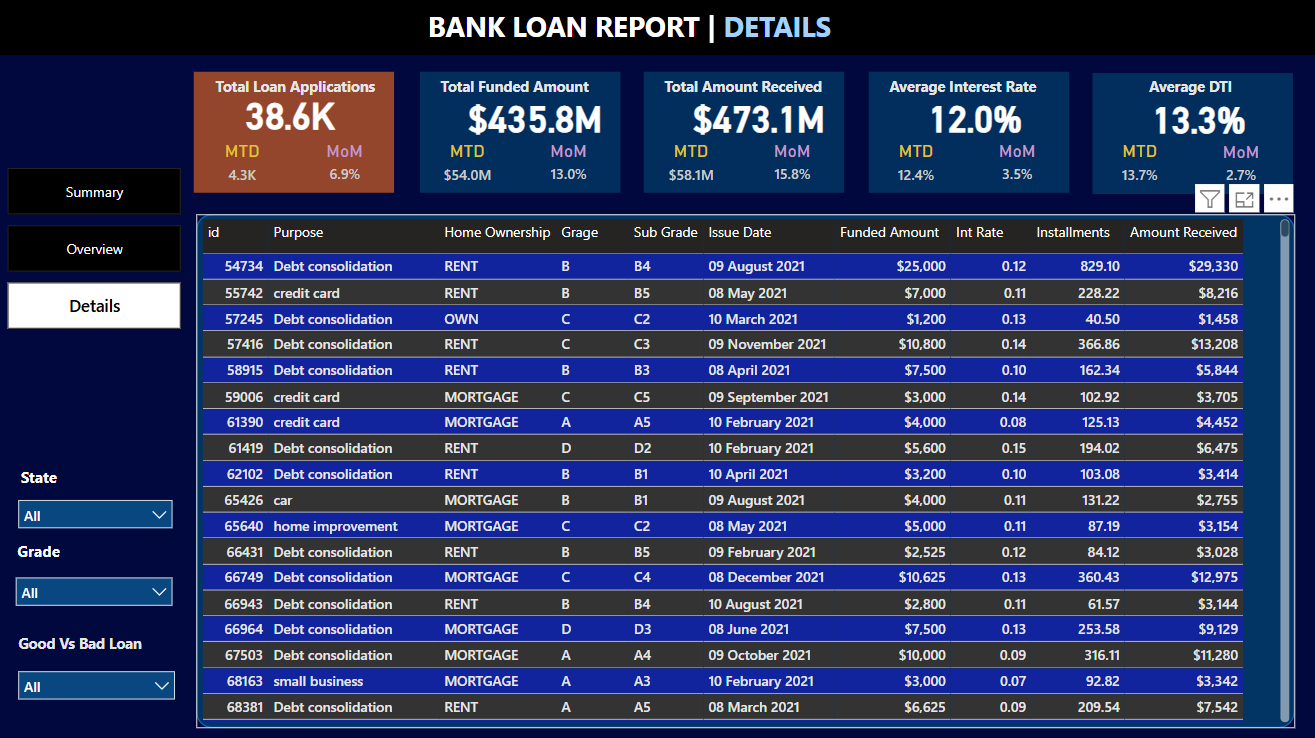

The dashboard page shown, as its layout file describes it:
{"tool":"powerbi","page":{"name":"Details","canvas":[1280,720],"ordinal":2},"visuals":[{"type":"shape","box":[0,55.5,194.2,664.5],"z":0},{"type":"shape","box":[410.2,71.3,193.7,117],"z":0,"group":"g3"},{"type":"shape","box":[626.7,71.3,193.7,117],"z":0,"group":"g4"},{"type":"shape","box":[843.2,71.3,193.7,117],"z":0,"group":"g5"},{"type":"shape","box":[192.3,71.4,193.7,117],"z":0,"group":"g1"},{"type":"shape","box":[1059.7,71.9,193.7,117],"z":0,"group":"g6"},{"type":"shape","box":[0,0,1280.3,55],"z":1000},{"type":"card","fields":{"Values":["bank_loan_data.Total Loan Application"]},"box":[228.8,76.7,113.6,69.9],"z":1000,"group":"g1"},{"type":"card","fields":{"Values":["bank_loan_data.Total Funded Amount"]},"box":[447.1,82,147.9,64.6],"z":1000,"group":"g3"},{"type":"card","fields":{"Values":["bank_loan_data.Total Amount Received"]},"box":[663.6,82,147.9,64.6],"z":1000,"group":"g4"},{"type":"card","fields":{"Values":["bank_loan_data.Avg Interest Rate"]},"box":[872.1,82.5,147.9,64.6],"z":1000,"group":"g5"},{"type":"card","fields":{"Values":["bank_loan_data.Avg DTI"]},"box":[1088.6,83.1,147.9,64.6],"z":1000,"group":"g6"},{"type":"textbox","box":[204.7,71.3,197.8,40.3],"z":2000,"group":"g1"},{"type":"textbox","box":[420.9,71.3,197.8,40.3],"z":2000,"group":"g3"},{"type":"textbox","box":[637.4,71.3,197.8,40.3],"z":2000,"group":"g4"},{"type":"textbox","box":[853.9,71.3,197.8,40.3],"z":2000,"group":"g5"},{"type":"textbox","box":[1070.1,71.3,169.4,40.3],"z":2000,"group":"g6"},{"type":"textbox","box":[12.1,447.4,95.3,31.4],"z":2000,"group":"g7"},{"type":"textbox","box":[12.1,517.4,83.2,31.4],"z":2000},{"type":"card","title":"MTD","fields":{"Values":["bank_loan_data.MTD Loan Applications"]},"box":[204.7,137.2,69.5,51.1],"z":3000,"group":"g1"},{"type":"card","title":"MTD","fields":{"Values":["bank_loan_data.MTD Funded Applications"]},"box":[420.9,137.2,69.5,51.1],"z":3000,"group":"g3"},{"type":"card","title":"MTD","fields":{"Values":["bank_loan_data.MTD Total Amount Received"]},"box":[637.4,137.2,69.5,51.1],"z":3000,"group":"g4"},{"type":"card","title":"MTD","fields":{"Values":["bank_loan_data.MTD Average Interest Rate"]},"box":[853.9,137.2,69.5,51.1],"z":3000,"group":"g5"},{"type":"card","title":"MTD","fields":{"Values":["bank_loan_data.MTD Average DTI"]},"box":[1070.4,137.8,69.5,51.1],"z":3000,"group":"g6"},{"type":"textbox","box":[9.6,607.8,156.8,31.4],"z":3000},{"type":"group","id":"g1","title":"Group 2","box":[192.3,71.3,210.2,117.1],"z":3005,"group":"g2"},{"type":"card","title":"MoM","fields":{"Values":["bank_loan_data.MoM Loan Applications"]},"box":[303,138.2,69.5,49.8],"z":4000,"group":"g1"},{"type":"card","title":"MoM","fields":{"Values":["bank_loan_data.MoM Total Funded Amount"]},"box":[519.1,138.2,69.5,49.8],"z":4000,"group":"g3"},{"type":"card","title":"MoM","fields":{"Values":["bank_loan_data.MoM Total Amount Received"]},"box":[735.6,138.2,69.5,49.8],"z":4000,"group":"g4"},{"type":"card","title":"MoM","fields":{"Values":["bank_loan_data.MoM Average Interest Rate"]},"box":[952.1,138.2,69.5,49.8],"z":4000,"group":"g5"},{"type":"card","title":"MoM","fields":{"Values":["bank_loan_data.MoM Average DTI"]},"box":[1168.6,138.9,69.5,49.8],"z":4000,"group":"g6"},{"type":"shape","box":[194.2,208.6,1060.1,495.7],"z":4000},{"type":"textbox","box":[412.9,4,520.4,45.7],"z":5000},{"type":"group","id":"g2","title":"Group 1","box":[192.3,71.3,210.2,117.1],"z":6000},{"type":"group","id":"g3","title":"Group 2","box":[410.2,71.3,208.4,117],"z":7000},{"type":"group","id":"g4","title":"Group 2","box":[626.7,71.3,208.4,117],"z":8000},{"type":"group","id":"g5","title":"Group 2","box":[843.2,71.3,208.4,117],"z":9000},{"type":"group","id":"g6","title":"Group 2","box":[1059.7,71.3,193.7,117],"z":10000},{"type":"slicer","fields":{"Values":["bank_loan_data.address_state"]},"box":[12.1,474,168.8,43.4],"z":11000},{"type":"slicer","fields":{"Values":["bank_loan_data.grade"]},"box":[9.6,548.7,171.3,44.6],"z":12000},{"type":"slicer","fields":{"Values":["bank_loan_data.Good Vs Bad Loan"]},"box":[12.1,639.2,171.3,44.6],"z":13000},{"type":"group","id":"g7","title":"Group 2","box":[12.1,447.4,95.3,31.4],"z":14000},{"type":"tableEx","fields":{"Values":["bank_loan_data.id","bank_loan_data.purpose","bank_loan_data.home_ownership","bank_loan_data.grade","bank_loan_data.sub_grade","bank_loan_data.issue_date","bank_loan_data.Total Funded Amount","Sum(bank_loan_data.int_rate)","Sum(bank_loan_data.installment)","bank_loan_data.Total Amount Received"]},"box":[194.2,208.6,1060.1,495.7],"z":15000},{"type":"pageNavigator","box":[12.1,164,168.8,158],"z":16000}]}

Visuals, with their boxes on the page's 1280x720 design canvas (x1, y1, x2, y2). These are canvas units, not pixel positions in the 1315x738 screenshot, which may show the page scaled, cropped or inside an application window:
shape: BBox(0, 56, 194, 720)
shape: BBox(410, 71, 604, 188)
shape: BBox(627, 71, 820, 188)
shape: BBox(843, 71, 1037, 188)
shape: BBox(192, 71, 386, 188)
shape: BBox(1060, 72, 1253, 189)
shape: BBox(0, 0, 1280, 55)
card - bank_loan_data.Total Loan Application: BBox(229, 77, 342, 147)
card - bank_loan_data.Total Funded Amount: BBox(447, 82, 595, 147)
card - bank_loan_data.Total Amount Received: BBox(664, 82, 812, 147)
card - bank_loan_data.Avg Interest Rate: BBox(872, 82, 1020, 147)
card - bank_loan_data.Avg DTI: BBox(1089, 83, 1236, 148)
textbox: BBox(205, 71, 402, 112)
textbox: BBox(421, 71, 619, 112)
textbox: BBox(637, 71, 835, 112)
textbox: BBox(854, 71, 1052, 112)
textbox: BBox(1070, 71, 1240, 112)
textbox: BBox(12, 447, 107, 479)
textbox: BBox(12, 517, 95, 549)
"MTD" card: BBox(205, 137, 274, 188)
"MTD" card: BBox(421, 137, 490, 188)
"MTD" card: BBox(637, 137, 707, 188)
"MTD" card: BBox(854, 137, 923, 188)
"MTD" card: BBox(1070, 138, 1140, 189)
textbox: BBox(10, 608, 166, 639)
"Group 2" group: BBox(192, 71, 402, 188)
"MoM" card: BBox(303, 138, 372, 188)
"MoM" card: BBox(519, 138, 589, 188)
"MoM" card: BBox(736, 138, 805, 188)
"MoM" card: BBox(952, 138, 1022, 188)
"MoM" card: BBox(1169, 139, 1238, 189)
shape: BBox(194, 209, 1254, 704)
textbox: BBox(413, 4, 933, 50)
"Group 1" group: BBox(192, 71, 402, 188)
"Group 2" group: BBox(410, 71, 619, 188)
"Group 2" group: BBox(627, 71, 835, 188)
"Group 2" group: BBox(843, 71, 1052, 188)
"Group 2" group: BBox(1060, 71, 1253, 188)
slicer - bank_loan_data.address_state: BBox(12, 474, 181, 517)
slicer - bank_loan_data.grade: BBox(10, 549, 181, 593)
slicer - bank_loan_data.Good Vs Bad Loan: BBox(12, 639, 183, 684)
"Group 2" group: BBox(12, 447, 107, 479)
tableEx - bank_loan_data.id x bank_loan_data.purpose: BBox(194, 209, 1254, 704)
pageNavigator: BBox(12, 164, 181, 322)
